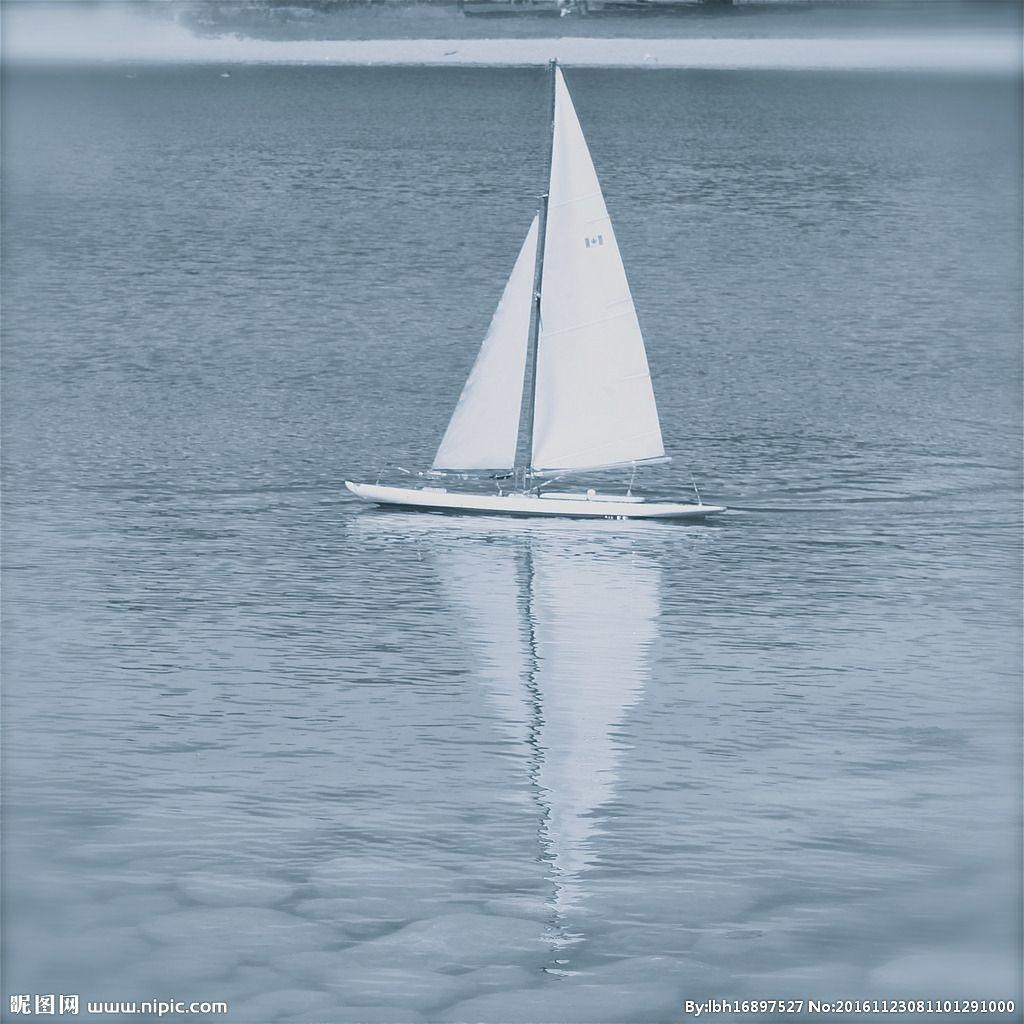fanchuan: (337, 72, 735, 528)
